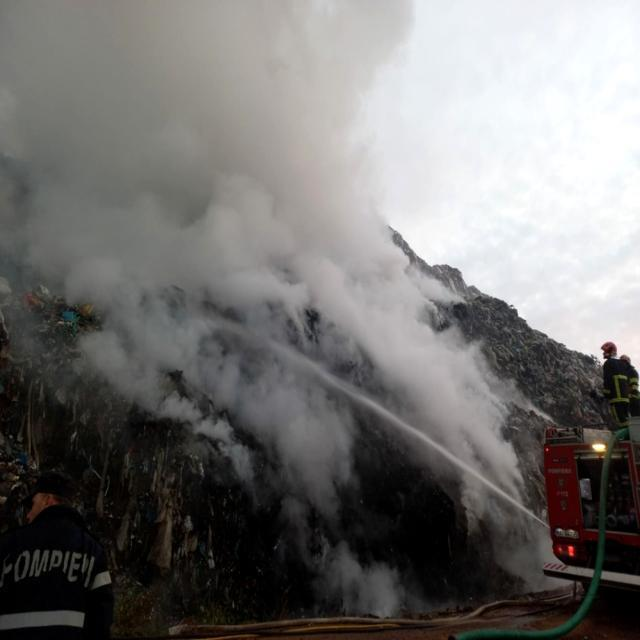Smoke: (1, 0, 544, 606)
